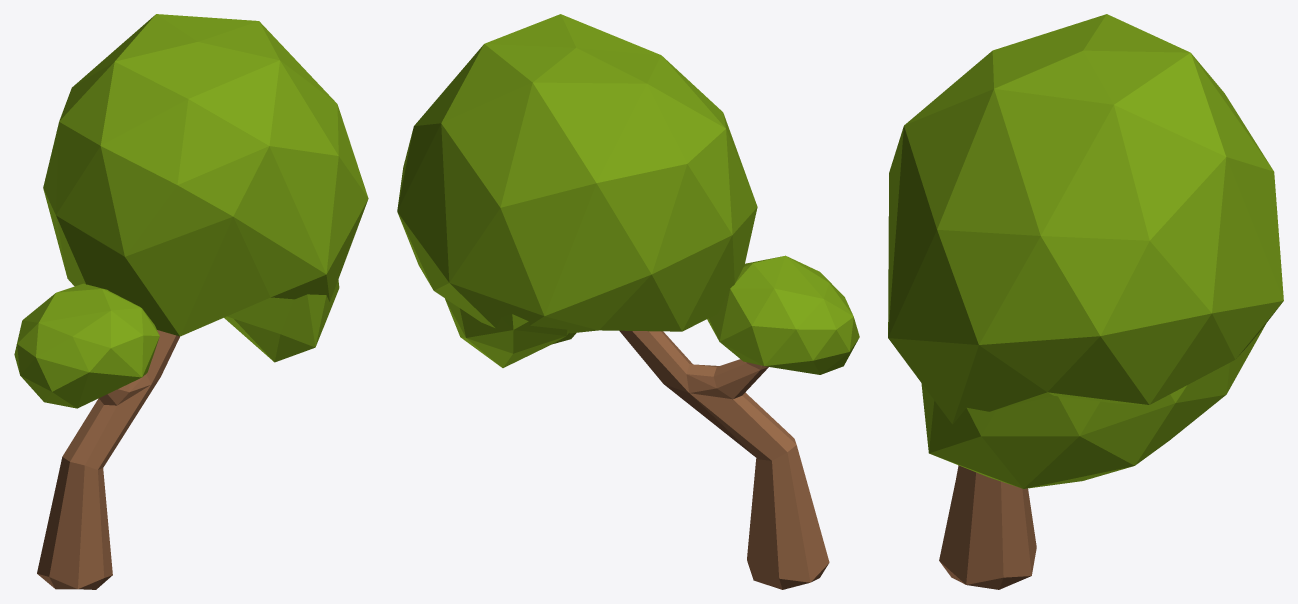
File: Tree213.fbx
3 renders of one model, left to right at view 1: azimuth 30°, elevation 25°; view 2: azimuth 150°, elevation 25°; view 3: azimuth 270°, elevation 25°, orthographic. The views are drawn at different scales.
Parts seen in each view (by area): view 1: Icosphere.003; view 2: Icosphere.003; view 3: Icosphere.003.
Part boxes in pixels (<box>): Icosphere.003: <box>14,14,368,589</box>; Icosphere.003: <box>397,14,859,589</box>; Icosphere.003: <box>888,14,1283,589</box>.
Size of the model in its own units: 135 by 169 by 95.92.
